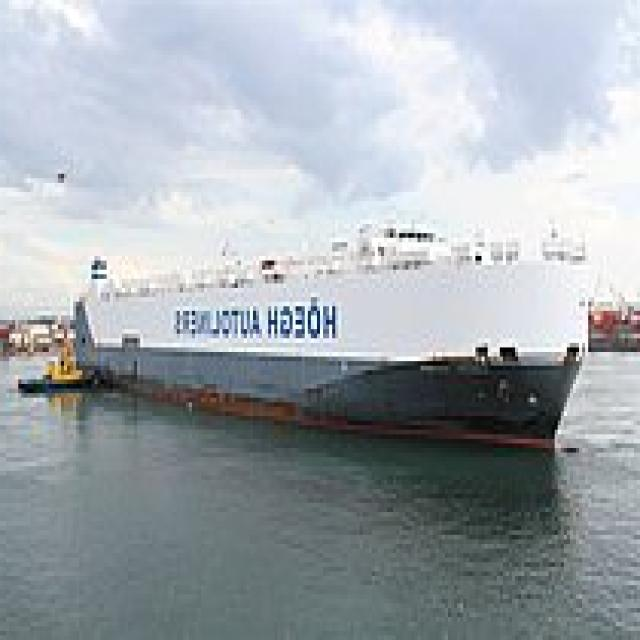Carrier: (74, 210, 600, 453)
